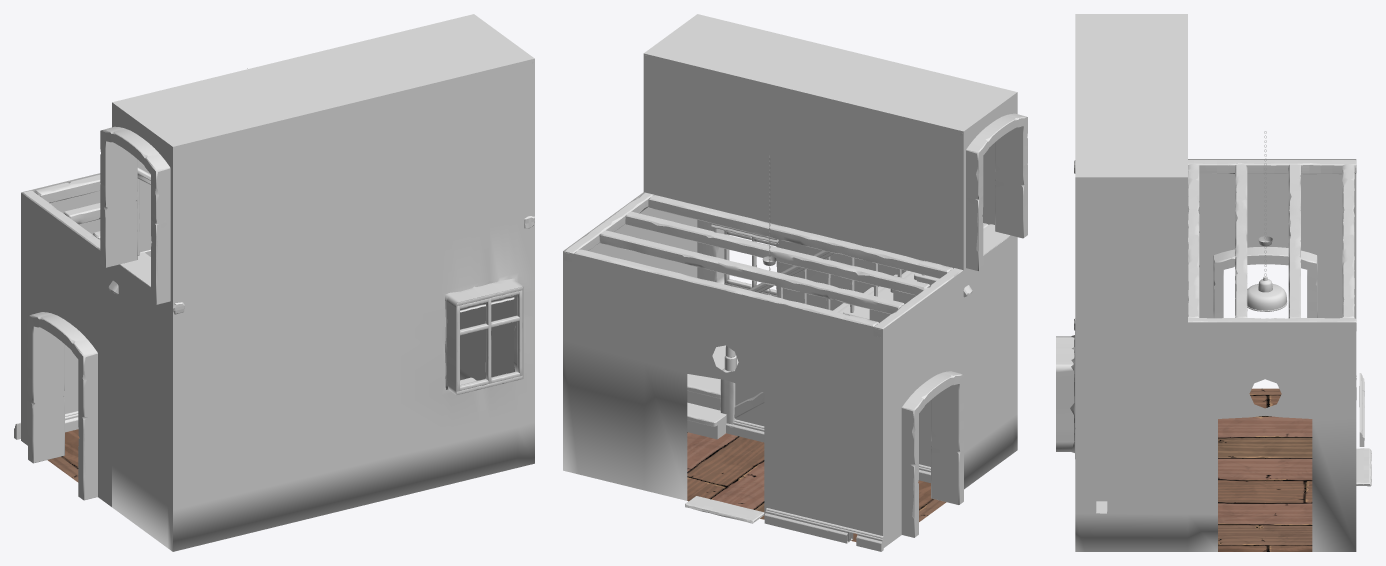
File: Hall.fbx
The picture shows the model from 3 angles, left to right: view 1: azimuth 30°, elevation 25°; view 2: azimuth 150°, elevation 25°; view 3: azimuth 270°, elevation 25°; orthographic projection. The views are drawn at different scales.
Visible parts, largest first — view 1: Hall, Cube.520, Cube.522, Shelf.036, CeilingWood.016, CeilingWood.017; view 2: Hall, CeilingWood.016, Cube.520, Cube.522, Portaat, WallEdge.024, Cube.525, CeilingWood.018, Cube.529, Cube.519, CeilingWood.017, WallEdge.027 (+2 smaller); view 3: Hall, CeilingWood.016, Cube.520, CeilingWood.017, Cylinder.237, CeilingWood.018, Cube.519, WallEdge.024.
Boxes of the visible parts, x1,y1,x2,y2 form: Hall: [21, 14, 534, 551]; Cube.520: [27, 312, 97, 500]; Cube.522: [100, 126, 170, 304]; Shelf.036: [456, 287, 522, 394]; CeilingWood.016: [34, 174, 150, 256]; CeilingWood.017: [22, 190, 184, 314]; Hall: [563, 14, 1017, 547]; CeilingWood.016: [574, 195, 988, 326]; Cube.520: [901, 371, 963, 537]; Cube.522: [966, 113, 1027, 271]; Portaat: [735, 224, 1010, 466]; WallEdge.024: [764, 508, 883, 551]; Cube.525: [687, 345, 738, 410]; CeilingWood.018: [564, 192, 655, 262]; Cube.529: [687, 402, 726, 439]; Cube.519: [685, 496, 764, 523]; CeilingWood.017: [873, 236, 1009, 337]; WallEdge.027: [726, 419, 930, 482]; Hall: [1056, 14, 1356, 551]; CeilingWood.016: [1188, 164, 1354, 318]; Cube.520: [1213, 247, 1317, 318]; CeilingWood.017: [1074, 160, 1356, 174]; Cylinder.237: [1247, 276, 1287, 311]; CeilingWood.018: [1074, 318, 1356, 330]; Cube.519: [1356, 448, 1371, 486]; WallEdge.024: [1359, 373, 1364, 446].
Size of the model in its own units: 4336 by 4463 by 3408.
